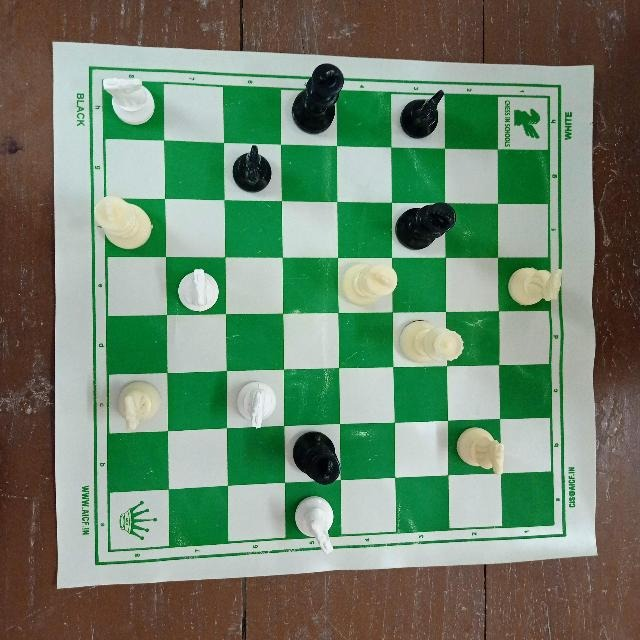black-king: (290, 58, 352, 133), (287, 422, 348, 488), (394, 200, 461, 256)
black-knight: (399, 83, 449, 145), (229, 141, 277, 197)
white-king: (83, 191, 157, 251), (338, 258, 404, 305)
white-knight: (448, 422, 510, 482), (288, 491, 342, 559), (106, 377, 168, 433), (100, 72, 158, 129), (505, 262, 570, 310), (230, 378, 280, 432), (174, 266, 224, 316)
white-queen: (397, 316, 468, 365)
